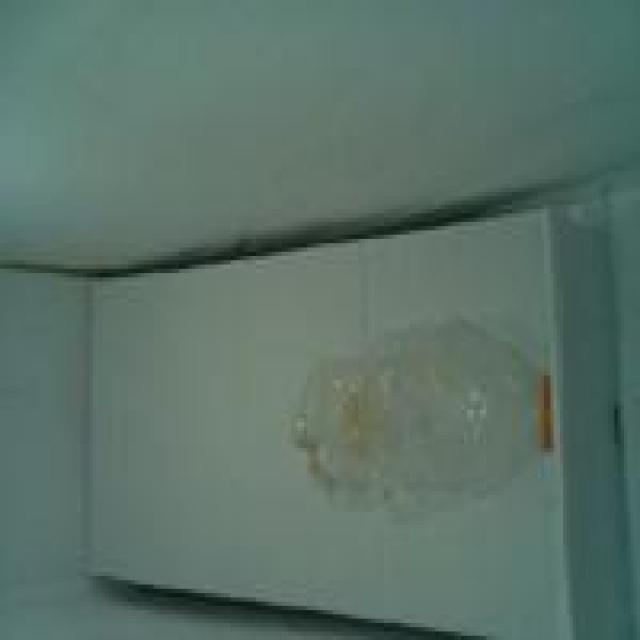bottle: (265, 299, 580, 535)
